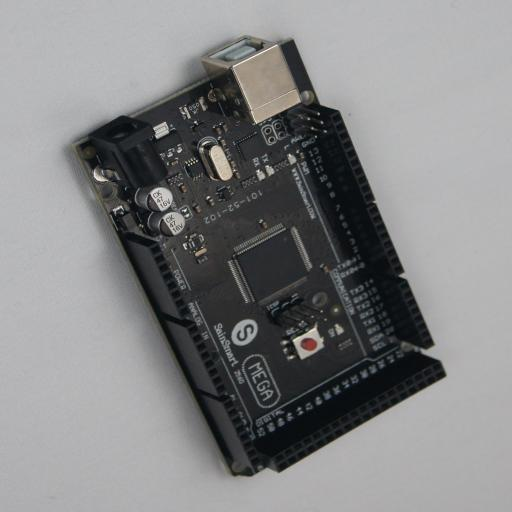Arduino Mega 2560 -Black-: (71, 38, 446, 476)
